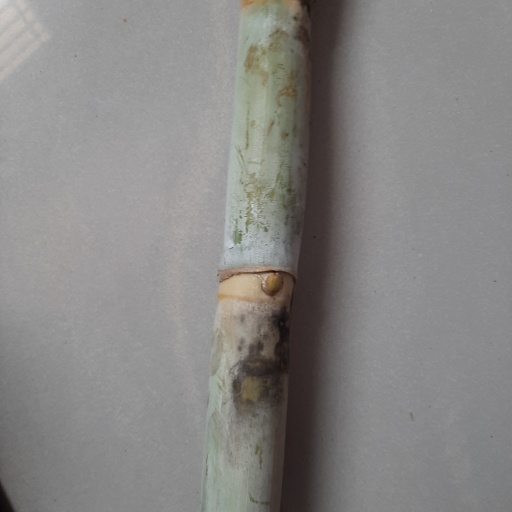Bud: (260, 270, 284, 299)
